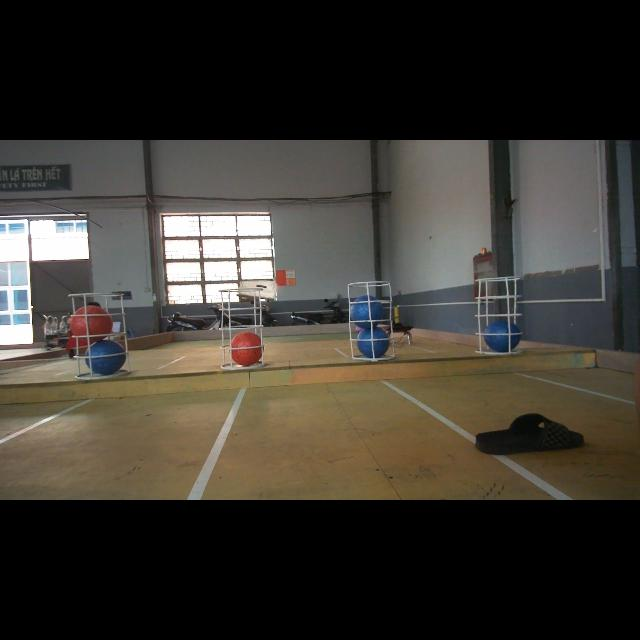B: (85, 341, 127, 375), (484, 320, 520, 352), (350, 295, 384, 327), (356, 327, 390, 358)
R: (71, 306, 113, 342), (230, 333, 264, 365)
